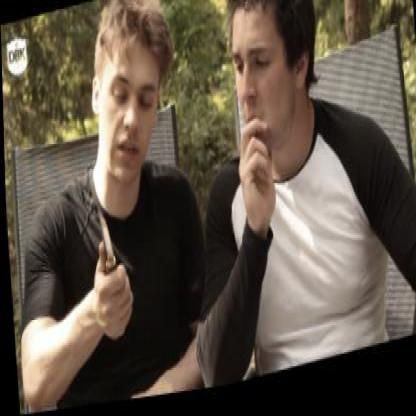knife: (82, 184, 132, 324)
